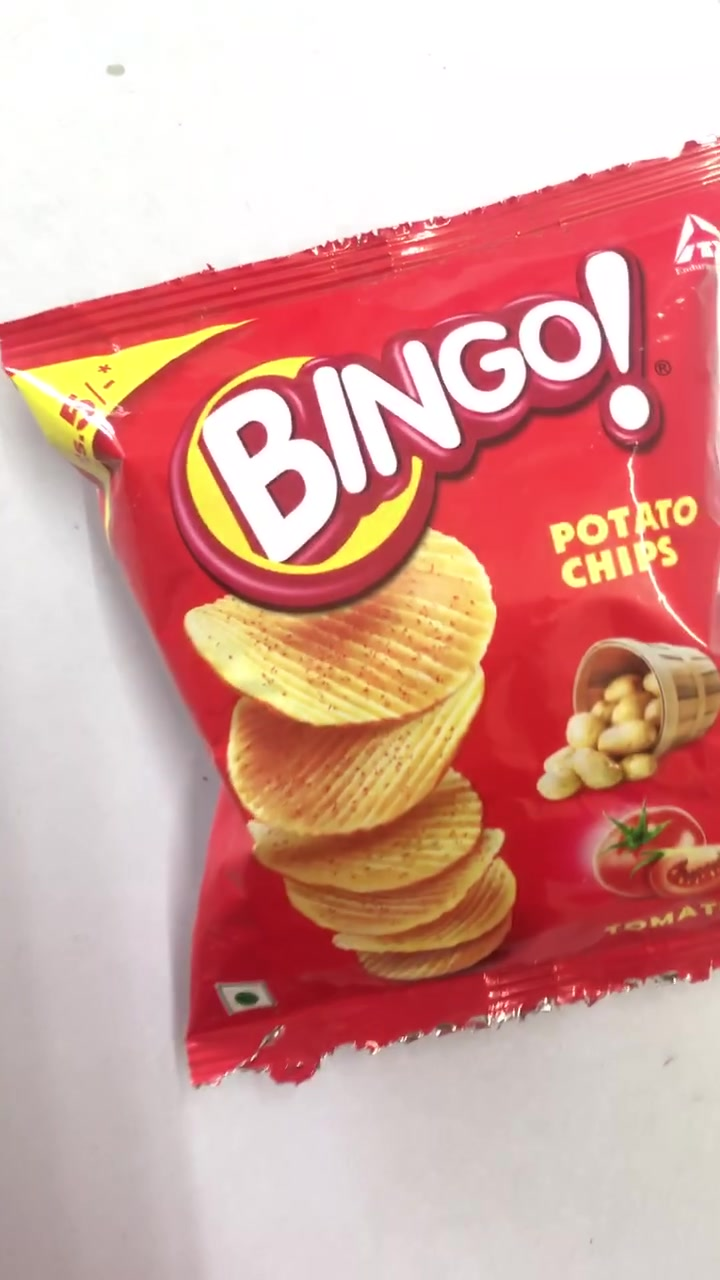Bingo: (9, 146, 719, 1075)
